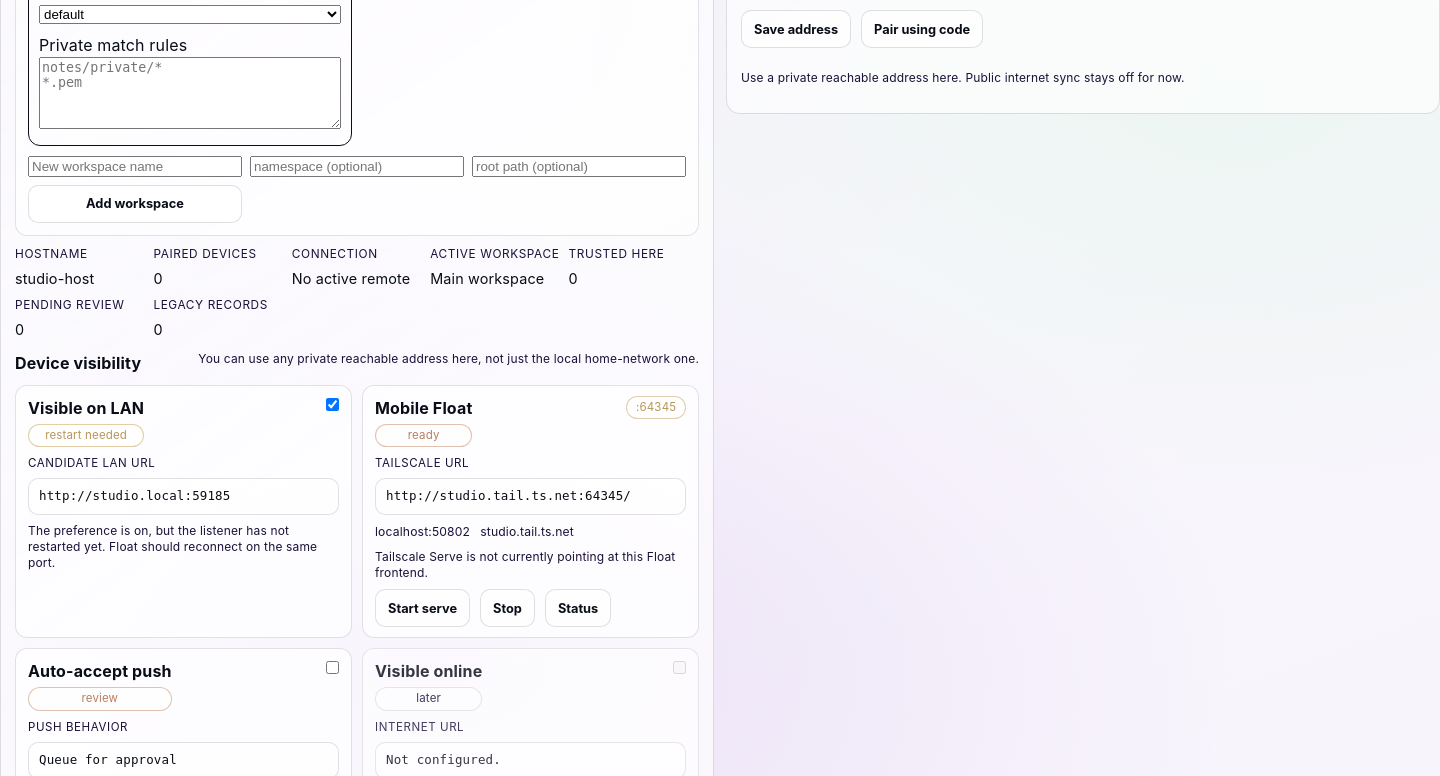
Scenario: KnowledgeSyncTab › toggles the real LAN listener and distinguishes saved from active state
(page scrolled)
expect the text "restart needed" is shown: met, box top-left (28, 424), bottom-right (144, 447)
expect the text "http://studio.local:59185" is shown: met, box top-left (28, 478), bottom-right (339, 515)
Step 1. Click the checkbox labelled "Visible on LAN" → point(332, 404), box top-left (326, 398), bottom-right (339, 410)
(page scrolled)
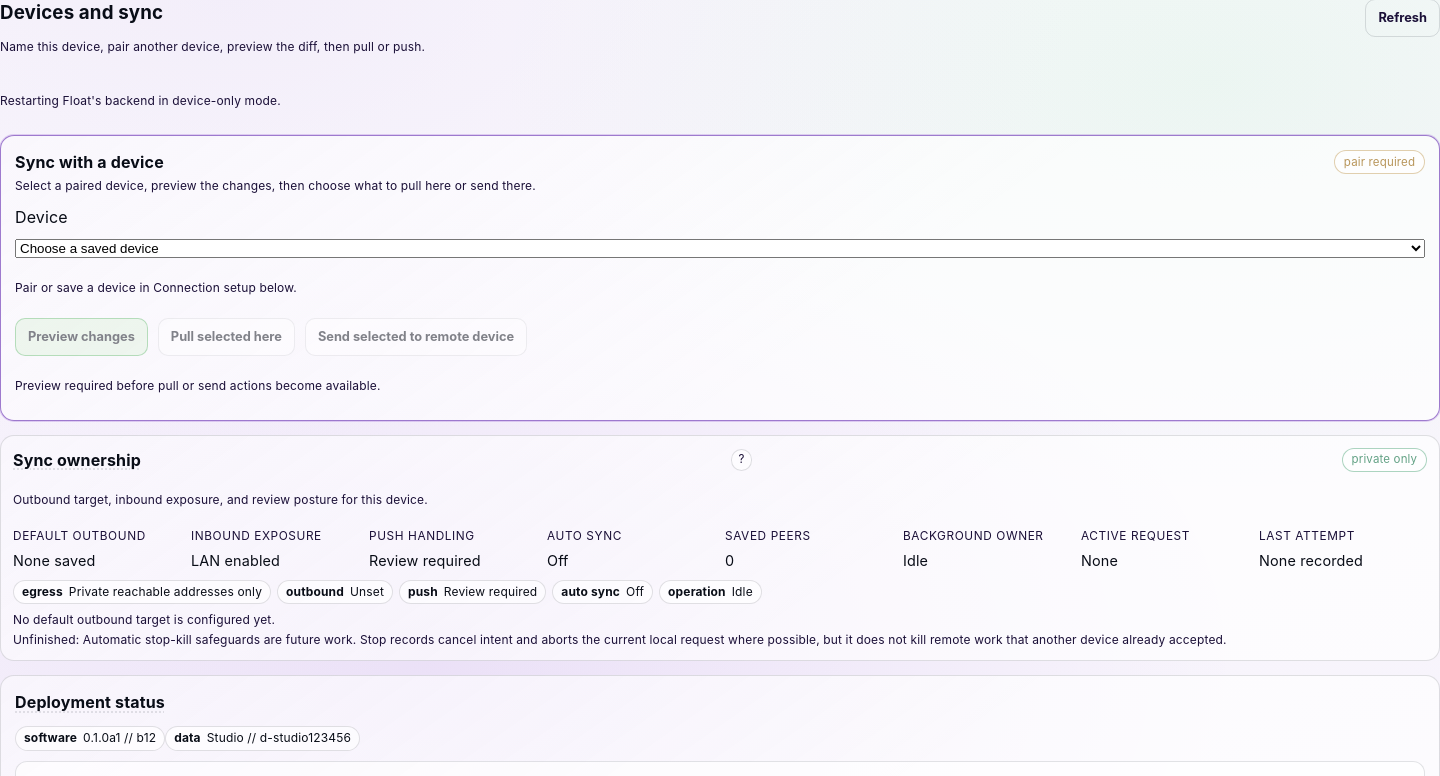
expect the text "Restarting Float's backend in device-only mode." is shown: met, box top-left (0, 93), bottom-right (281, 108)
